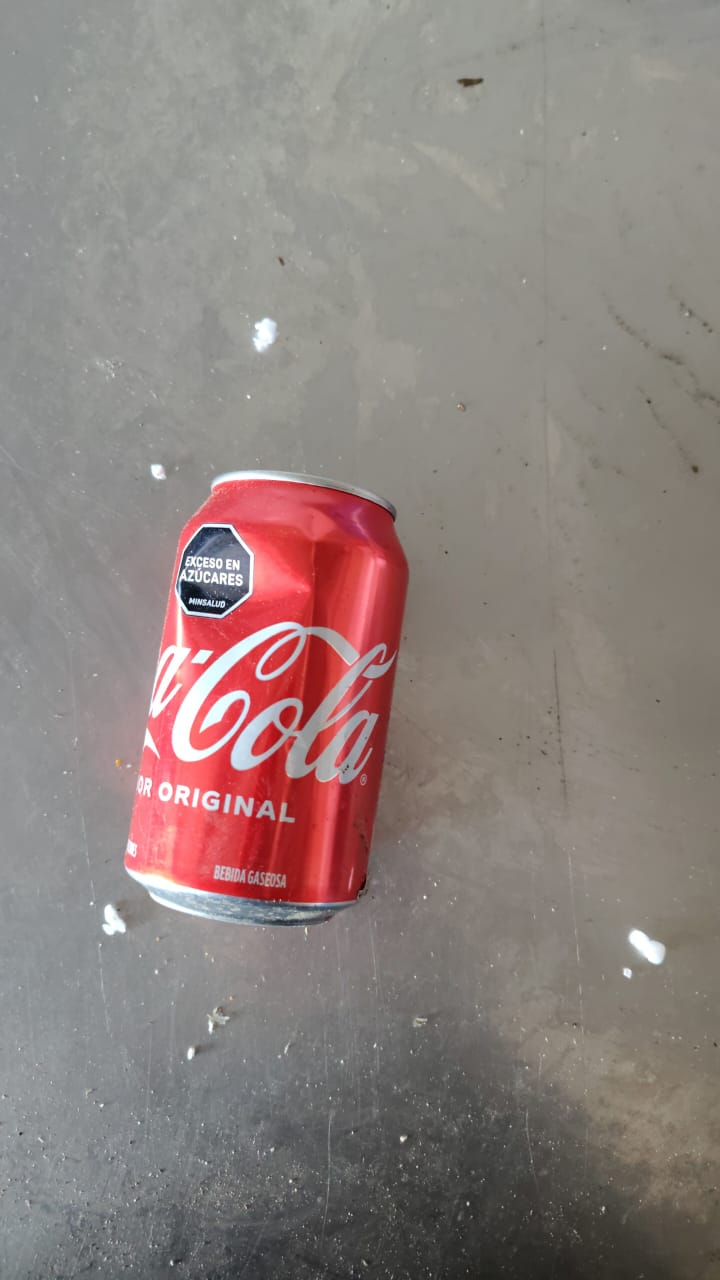Metal: (121, 466, 411, 932)
